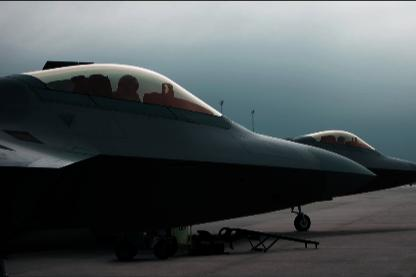F18: (1, 62, 377, 276), (42, 60, 415, 238)
